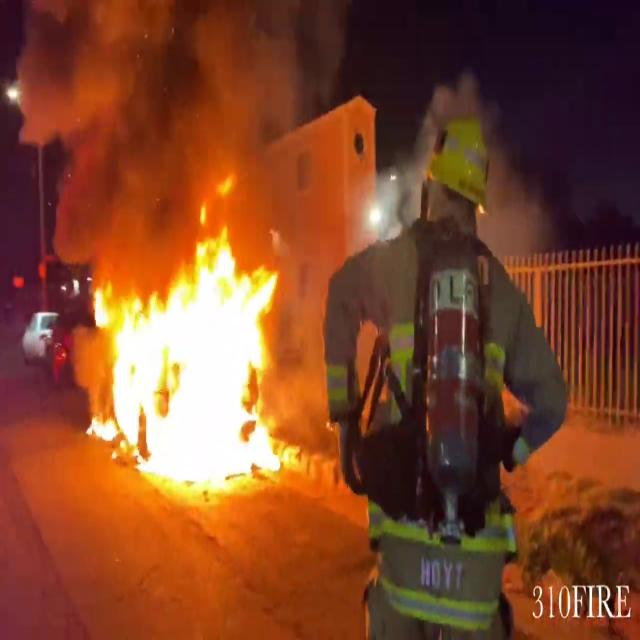Fire: (85, 211, 301, 498)
Smoke: (2, 1, 330, 248)
